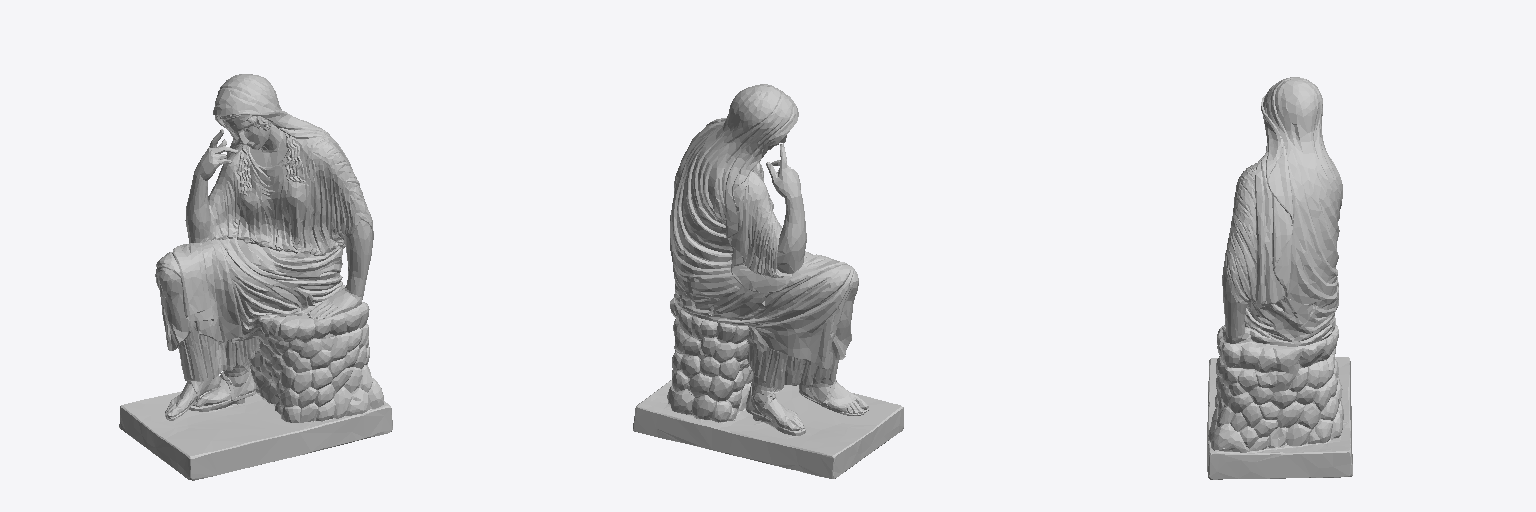
File: penelope.obj
3 renders of one model, left to right at view 1: azimuth 30°, elevation 25°; view 2: azimuth 150°, elevation 25°; view 3: azimuth 270°, elevation 25°, orthographic.
Parts seen in each view (by area): view 1: penelope; view 2: penelope; view 3: penelope.
Part boxes in pixels (bbox=[...]): penelope: bbox=[119, 74, 392, 480]; penelope: bbox=[633, 84, 903, 478]; penelope: bbox=[1207, 77, 1352, 479].
Size of the model in its own units: 2.13 by 3.5 by 1.33.